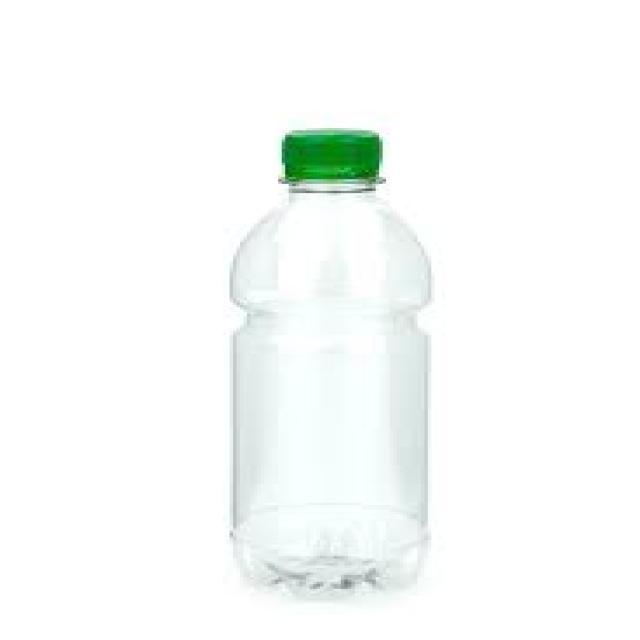bottle: (222, 125, 439, 599)
